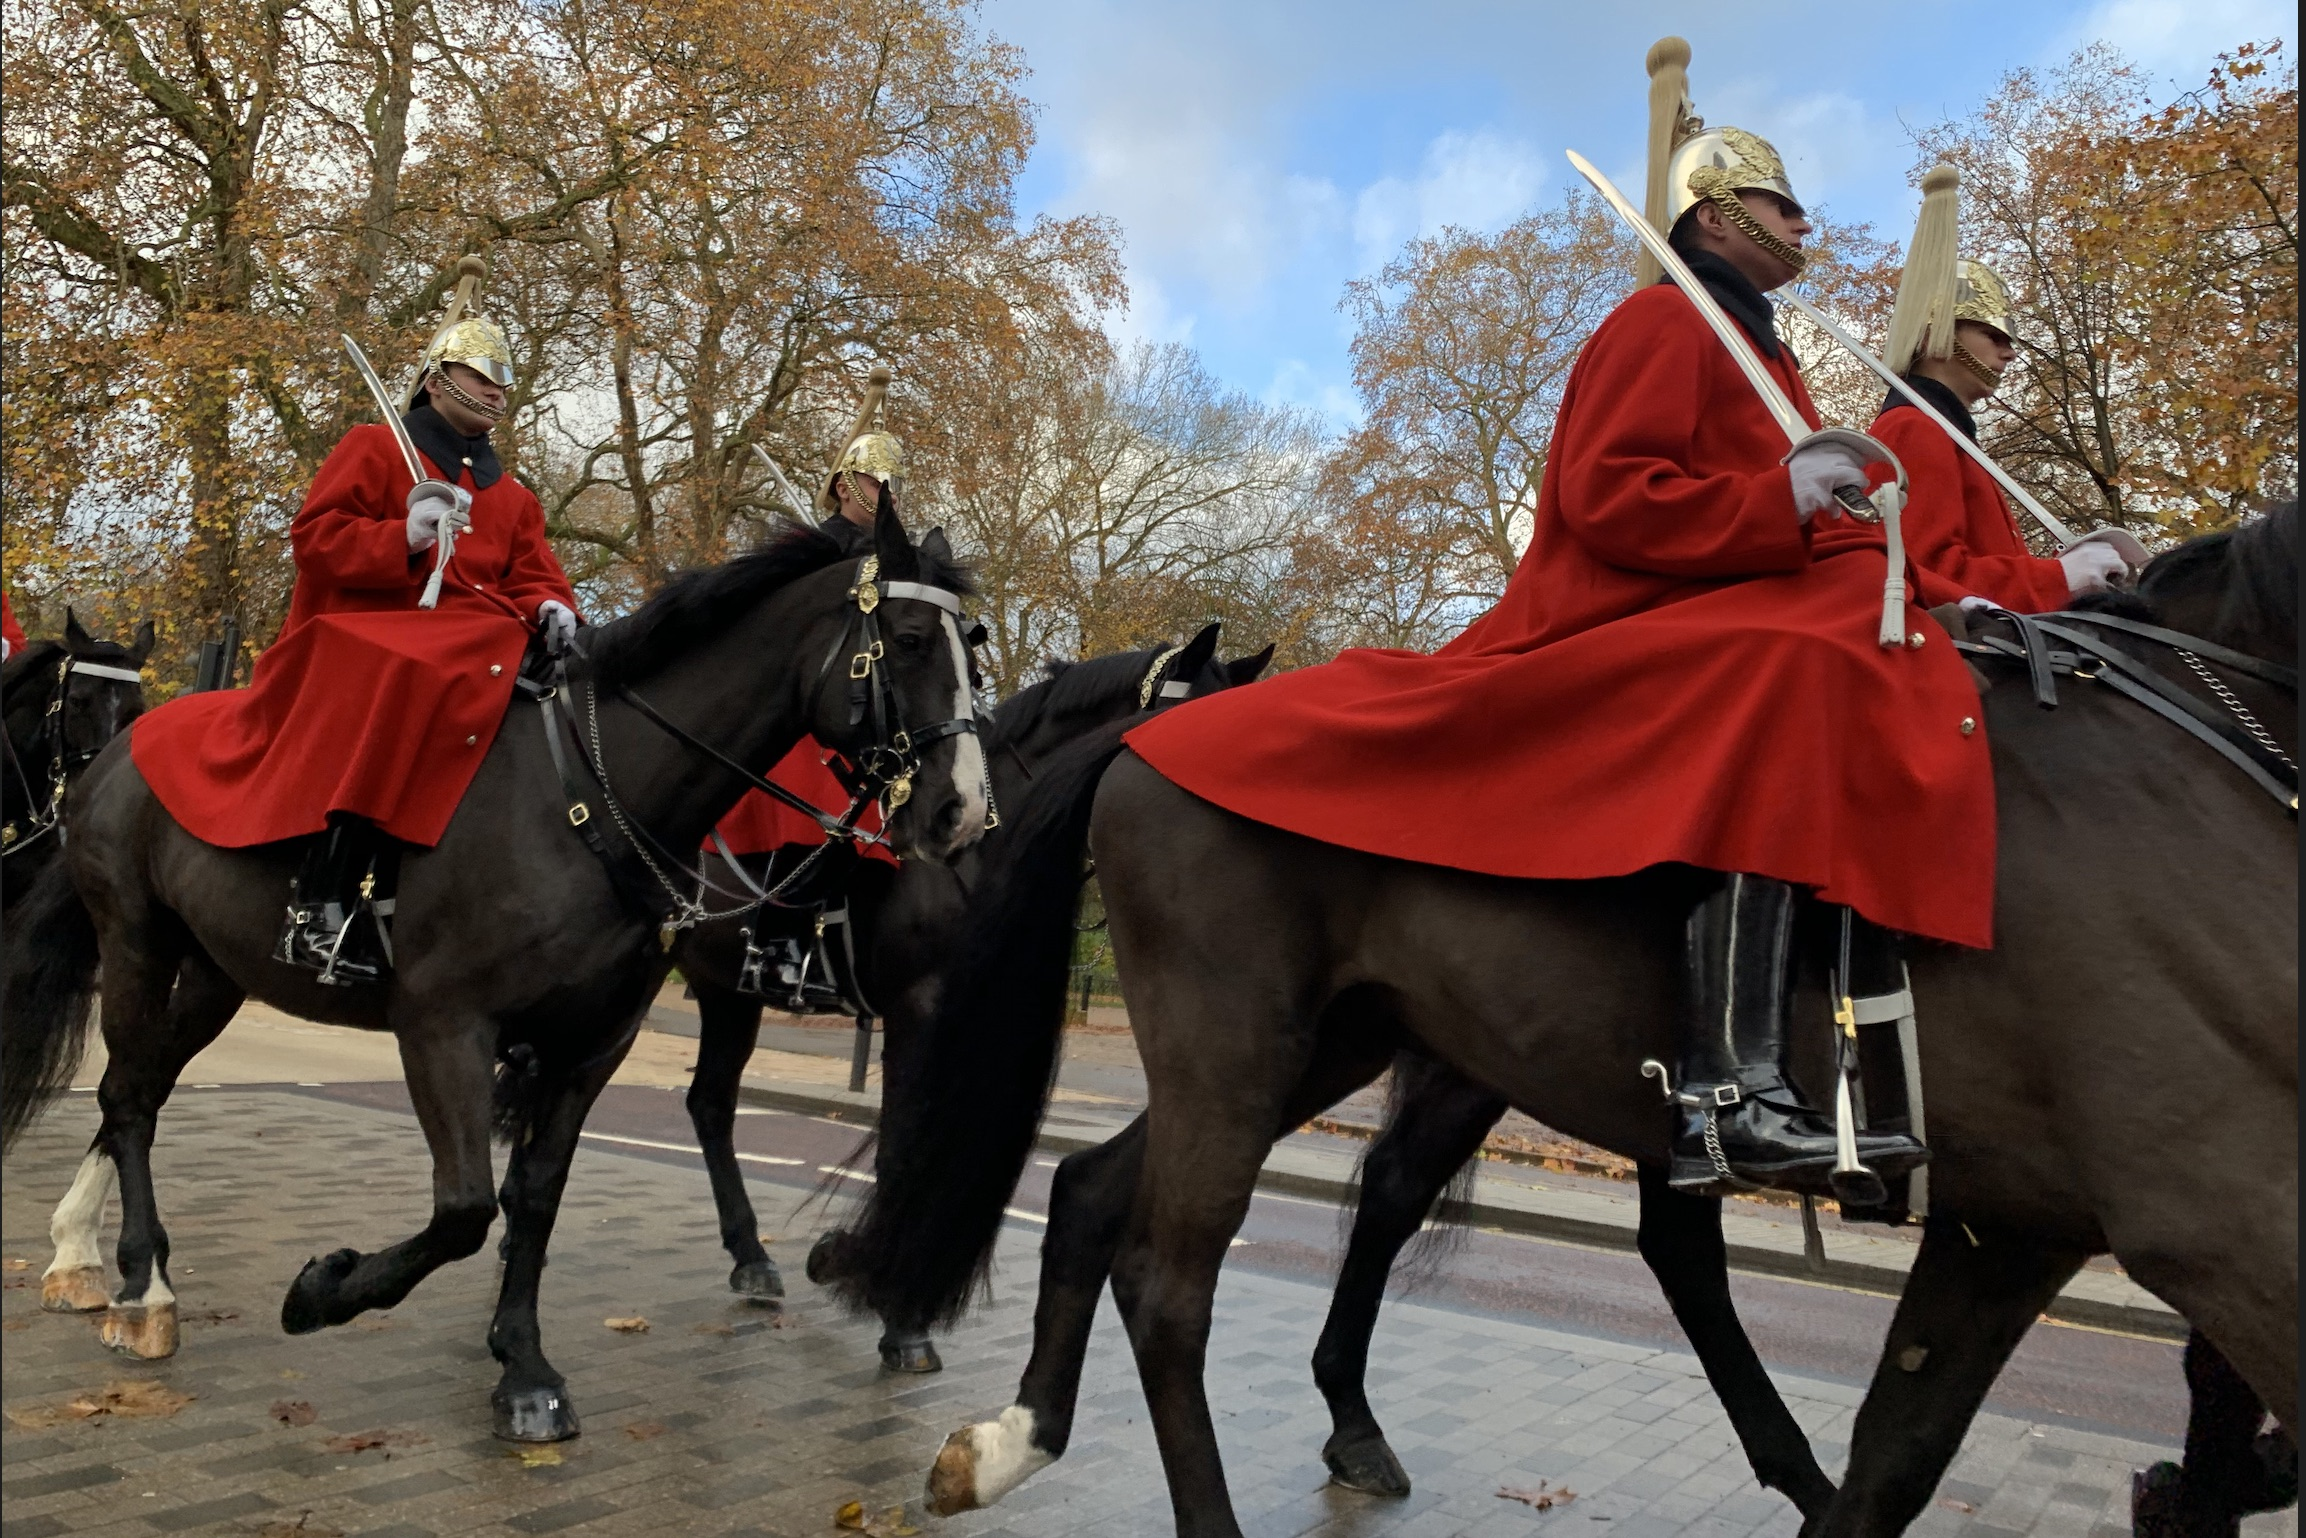horse: (915, 489, 2304, 1534), (1, 474, 998, 1407)
person: (1126, 29, 1995, 956), (135, 307, 578, 987)
